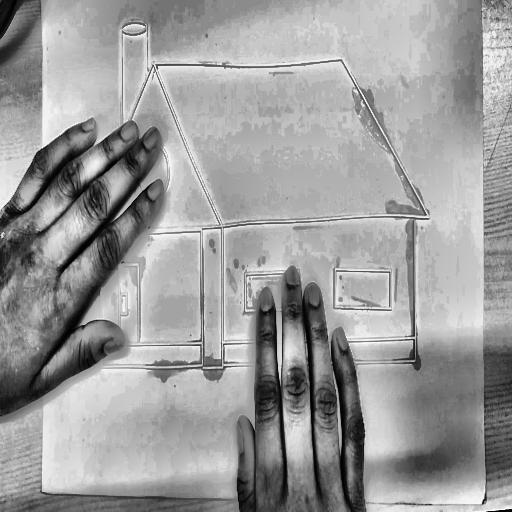bottom_left: (37, 482, 47, 499)
bottom_right: (480, 494, 489, 511)
house: (85, 17, 431, 381)
